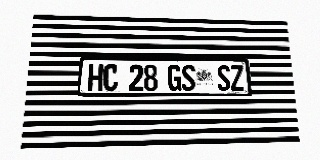2: (129, 64, 143, 91)
8: (144, 65, 158, 91)
C: (103, 64, 118, 91)
G: (167, 65, 182, 91)
H: (88, 64, 103, 91)
S: (181, 65, 196, 91), (217, 65, 231, 91)
Z: (230, 65, 244, 91)
